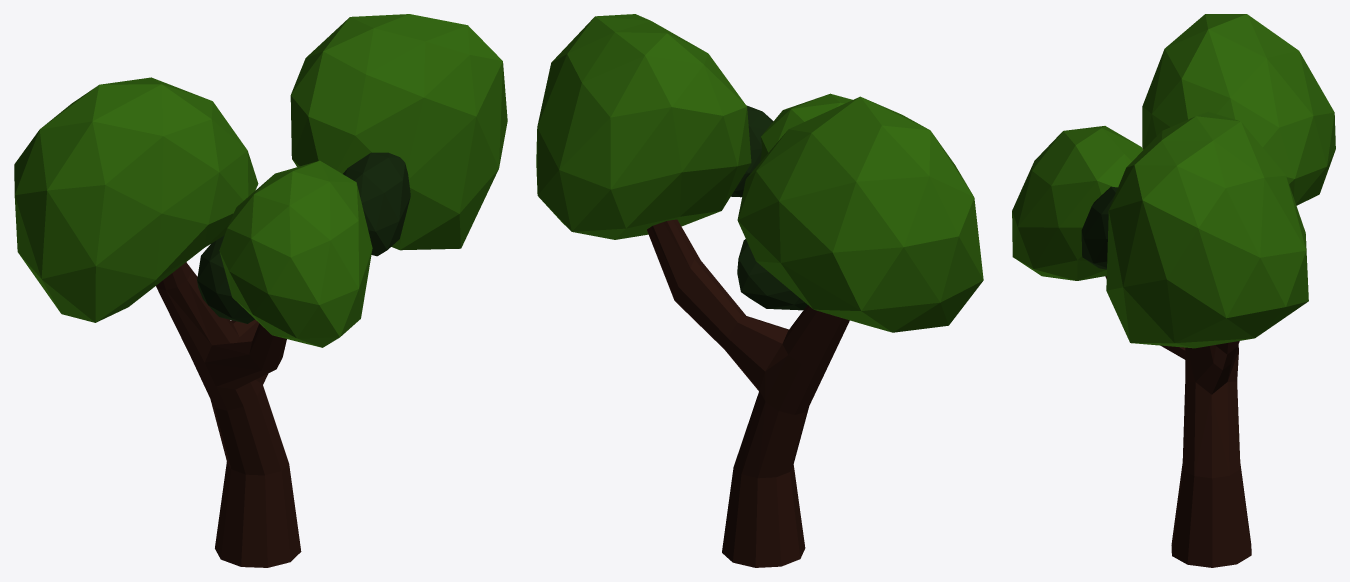
The model's file is t2-green.obj.
The picture shows the model from 3 angles, left to right: view 1: azimuth 30°, elevation 25°; view 2: azimuth 150°, elevation 25°; view 3: azimuth 270°, elevation 25°; orthographic projection. The views are drawn at different scales.
Parts seen in each view (by area): view 1: t2-green_Icosphere.016; view 2: t2-green_Icosphere.016; view 3: t2-green_Icosphere.016.
Part boxes in pixels (x1,y1,x2,y2): t2-green_Icosphere.016: [14, 14, 507, 567]; t2-green_Icosphere.016: [536, 14, 983, 567]; t2-green_Icosphere.016: [1012, 14, 1335, 567].
Size of the model in its own units: 6.73 by 7.18 by 4.35.
